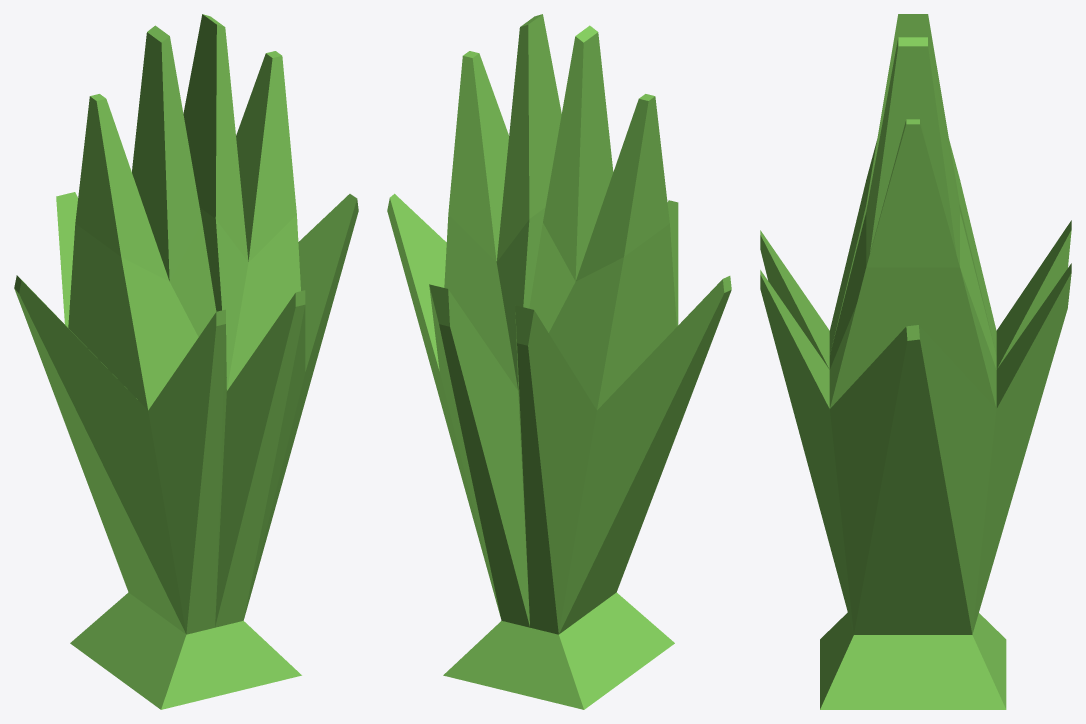
Rendered from grass.fbx.
3 views of the same model, side by side, from view 1: azimuth 30°, elevation 25°; view 2: azimuth 150°, elevation 25°; view 3: azimuth 270°, elevation 25° (orthographic). The views are drawn at different scales.
Visible parts, largest first — view 1: plantita; view 2: plantita; view 3: plantita.
Boxes of the visible parts, left/top/right/bottom form: plantita: left=14, top=14, right=358, bottom=709; plantita: left=387, top=14, right=731, bottom=709; plantita: left=760, top=14, right=1071, bottom=709.
Bounding box in the file's own units: 74.87 × 172 × 96.52.
